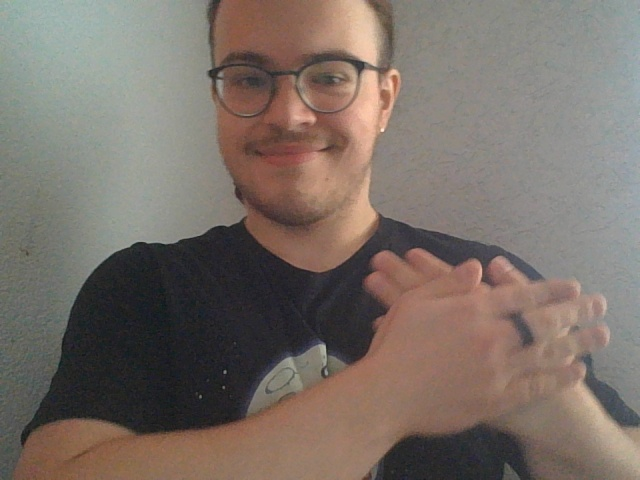Love: (358, 243, 617, 426)
